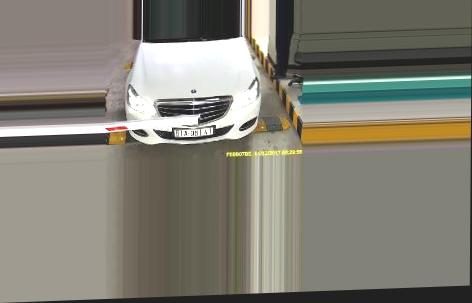License_Plate: (173, 124, 217, 141)
